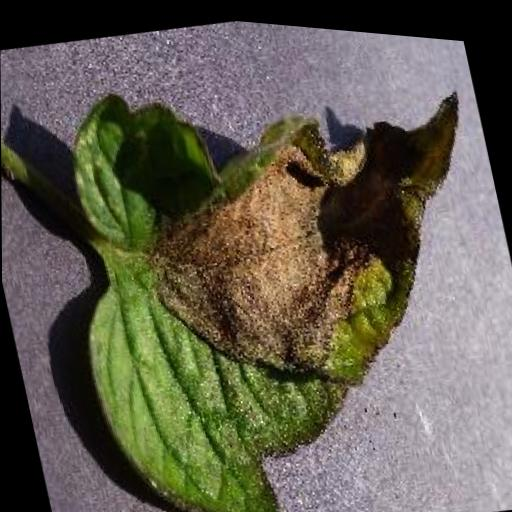Late Blight: (31, 12, 512, 512)
